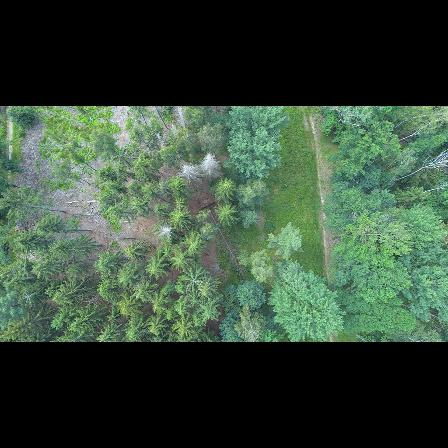Dead: (199, 150, 223, 180), (176, 161, 200, 187)
Sick: (154, 220, 179, 243)
